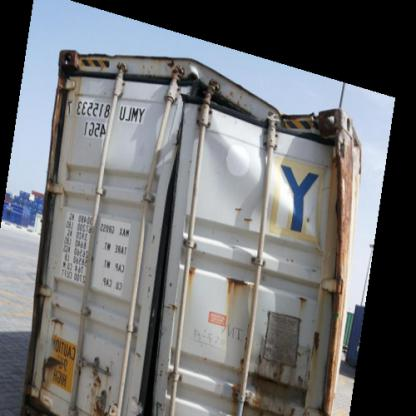Damage: (166, 58, 350, 149), (214, 341, 286, 413), (50, 41, 81, 135), (292, 286, 326, 368), (82, 357, 124, 415), (35, 303, 80, 344), (223, 263, 255, 300), (230, 196, 263, 227), (178, 254, 200, 292)
